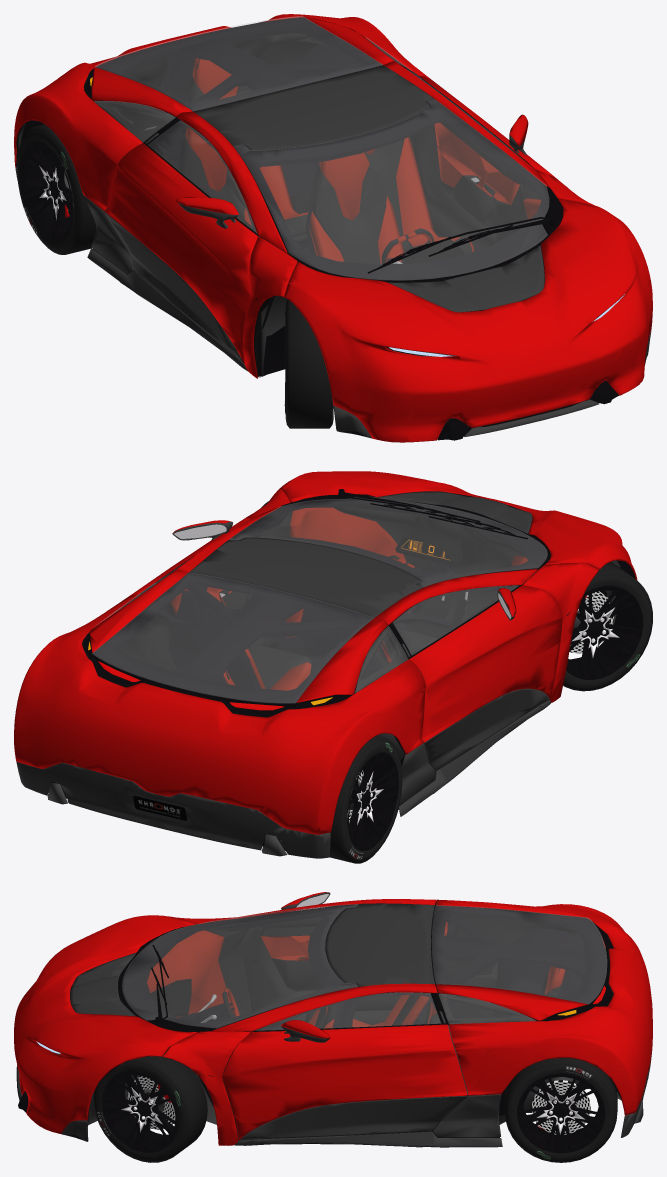
File: car_concept.low.glb
The picture shows the model from 3 angles, top to bottom: view 1: azimuth 30°, elevation 25°; view 2: azimuth 150°, elevation 25°; view 3: azimuth 270°, elevation 25°; orthographic projection. The views are drawn at different scales.
Parts seen in each view (by area): view 1: BodyHood, BodyWindshield, BodyRearwindow, BodyDoorRColor1, BodyRearPanelsColor1, BodyRoofPanel, BodyWindshieldGasket, InteriorSeatsColor1, InteriorSeatsColor2, BodyPillars, InteriorPillar, InteriorRearHatch (+22 smaller); view 2: BodyRearPanelsColor1, BodyRearwindow, BodyWindshield, BodyDoorRColor1, BodyPanelsColor2, BodyRoofPanel, BodyHood, InteriorRearHatch, BodyPillars, InteriorPillar, BodyWindshieldGasket, InteriorDashMid (+23 smaller); view 3: BodyRearPanelsColor1, BodyWindshield, BodyDoorLColor1, BodyHood, BodyRearwindow, BodyRoofPanel, BodyPillars, BodyWindshieldGasket, BodyDoorLColor2, BodyPanelsColor2, WheelFrontL, InteriorRearHatch (+25 smaller).
Boxes of the visible parts, left/top/right/bottom form: BodyHood: left=284, top=198, right=652, bottom=442; BodyWindshield: left=234, top=98, right=549, bottom=280; BodyRearwindow: left=95, top=16, right=382, bottom=110; BodyDoorRColor1: left=104, top=143, right=257, bottom=363; BodyRearPanelsColor1: left=14, top=14, right=429, bottom=210; BodyRoofPanel: left=193, top=65, right=432, bottom=150; BodyWindshieldGasket: left=234, top=99, right=563, bottom=282; InteriorSeatsColor1: left=185, top=58, right=474, bottom=264; InteriorSeatsColor2: left=180, top=77, right=471, bottom=264; BodyPillars: left=176, top=61, right=598, bottom=378; InteriorPillar: left=159, top=37, right=434, bottom=168; InteriorRearHatch: left=94, top=17, right=383, bottom=118; BodyRearPanelsColor1: left=14, top=569, right=425, bottom=834; BodyRearwindow: left=92, top=573, right=373, bottom=703; BodyWindshield: left=229, top=497, right=547, bottom=587; BodyDoorRColor1: left=409, top=585, right=562, bottom=742; BodyPanelsColor2: left=16, top=700, right=550, bottom=858; BodyRoofPanel: left=189, top=537, right=422, bottom=617; BodyHood: left=278, top=471, right=637, bottom=579; InteriorRearHatch: left=93, top=573, right=385, bottom=708; BodyPillars: left=174, top=489, right=598, bottom=702; InteriorPillar: left=174, top=574, right=417, bottom=682; BodyWindshieldGasket: left=230, top=496, right=550, bottom=587; InteriorDashMid: left=333, top=504, right=528, bottom=622; BodyRearPanelsColor1: left=436, top=899, right=652, bottom=1115; BodyWindshield: left=122, top=904, right=357, bottom=1028; BodyDoorLColor1: left=222, top=1024, right=467, bottom=1140; BodyHood: left=14, top=915, right=196, bottom=1133; BodyRearwindow: left=432, top=905, right=606, bottom=1003; BodyRoofPanel: left=326, top=903, right=434, bottom=986; BodyPillars: left=163, top=899, right=437, bottom=1145; BodyWindshieldGasket: left=118, top=905, right=357, bottom=1032; BodyDoorLColor2: left=240, top=1096, right=467, bottom=1140; BodyPanelsColor2: left=16, top=1045, right=652, bottom=1147; WheelFrontL: left=93, top=1054, right=207, bottom=1162; InteriorRearHatch: left=431, top=905, right=606, bottom=1020.
Size of the model in its own units: 2.54 by 1.15 by 4.36.
Materials: 23 (6 with a texture image).
